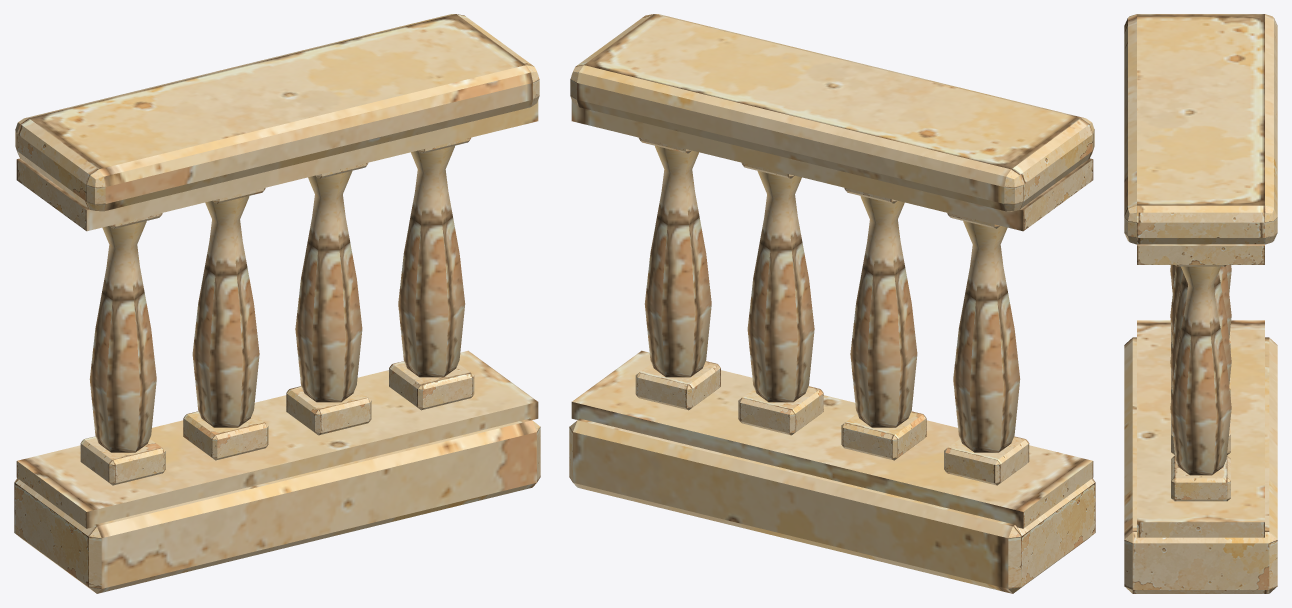
The picture shows the model from 3 angles, left to right: view 1: azimuth 30°, elevation 25°; view 2: azimuth 150°, elevation 25°; view 3: azimuth 270°, elevation 25°; orthographic projection. The views are drawn at different scales.
Parts seen in each view (by area): view 1: seaside_stone; view 2: seaside_stone; view 3: seaside_stone.
Boxes of the visible parts, x1,y1,x2,y2 form: seaside_stone: (14, 14, 540, 593); seaside_stone: (569, 14, 1095, 593); seaside_stone: (1124, 14, 1277, 593).
Bounding box in the file's own units: 1.12 × 1 × 0.36.
Materials: 1 (1 with a texture image).
